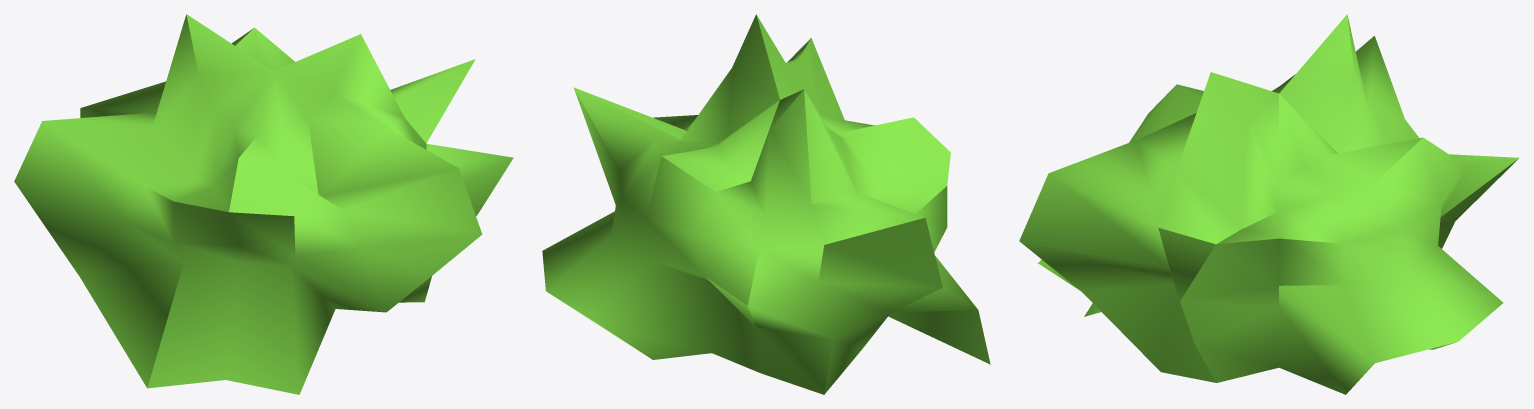
The model's file is krik.fbx.
3 views of the same model, side by side, from view 1: azimuth 30°, elevation 25°; view 2: azimuth 150°, elevation 25°; view 3: azimuth 270°, elevation 25° (orthographic). The views are drawn at different scales.
Visible parts, largest first — view 1: Sphere; view 2: Sphere; view 3: Sphere.
Part boxes in pixels (<box>): Sphere: <box>14,14,513,394</box>; Sphere: <box>542,14,990,394</box>; Sphere: <box>1019,14,1519,394</box>.
Bounding box in the file's own units: 180 × 183 × 125.
